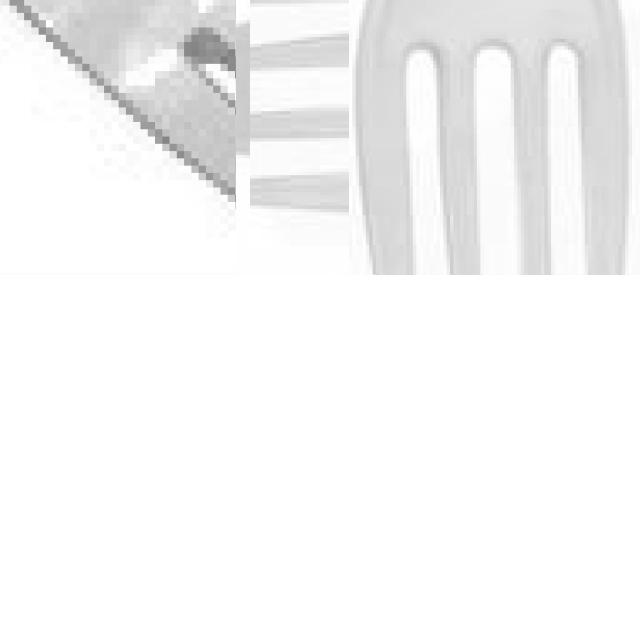forks: (300, 0, 640, 275), (0, 0, 236, 275)
